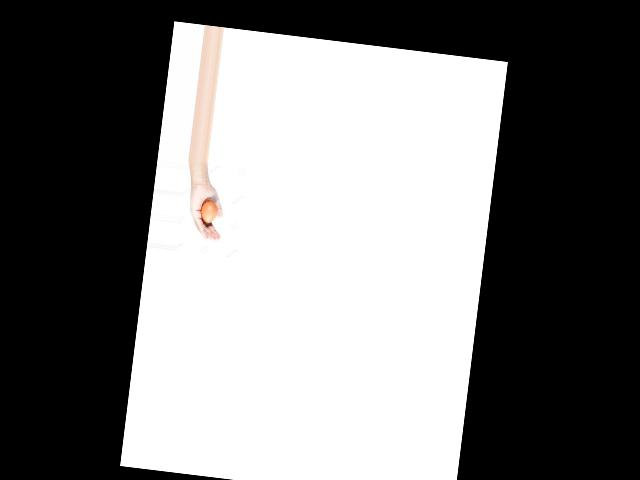egg: (199, 200, 218, 223)
